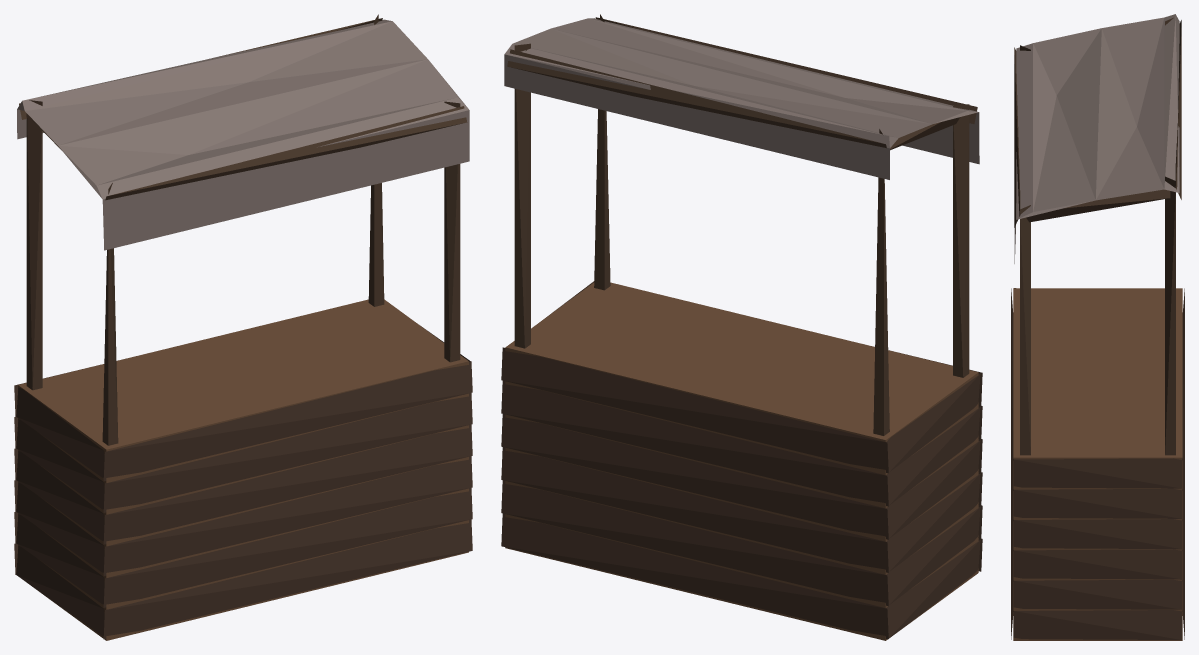
Rendered from market-stall-b.lod2.glb.
The picture shows the model from 3 angles, left to right: view 1: azimuth 30°, elevation 25°; view 2: azimuth 150°, elevation 25°; view 3: azimuth 270°, elevation 25°; orthographic projection. The views are drawn at different scales.
Visible parts, largest first — view 1: Stall_Stall_0; view 2: Stall_Stall_0; view 3: Stall_Stall_0.
Part boxes in pixels (bbox=[...]): Stall_Stall_0: bbox=[14, 14, 472, 640]; Stall_Stall_0: bbox=[501, 14, 982, 640]; Stall_Stall_0: bbox=[1011, 14, 1184, 640].
Bounding box in the file's own units: 4.4 × 5.46 × 1.88.
